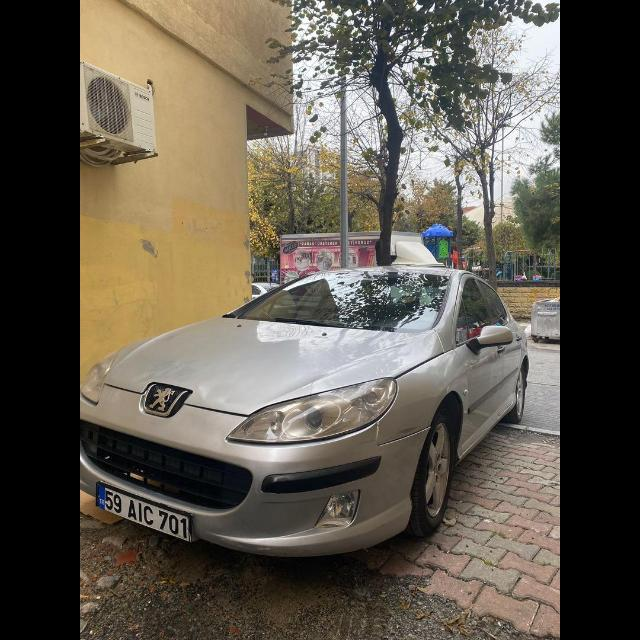Plaka: (96, 482, 190, 542)
